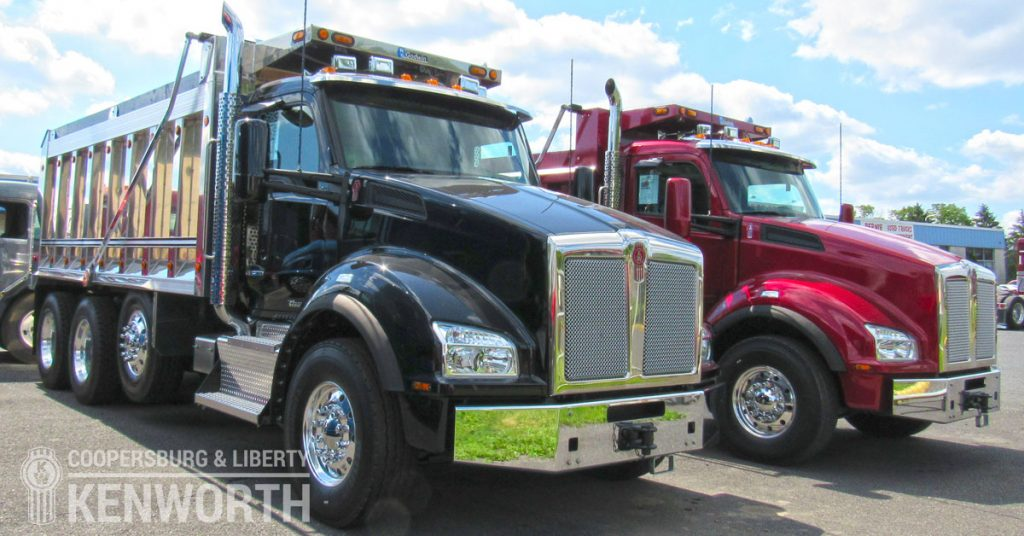truck: (25, 29, 701, 528), (567, 87, 998, 468)
